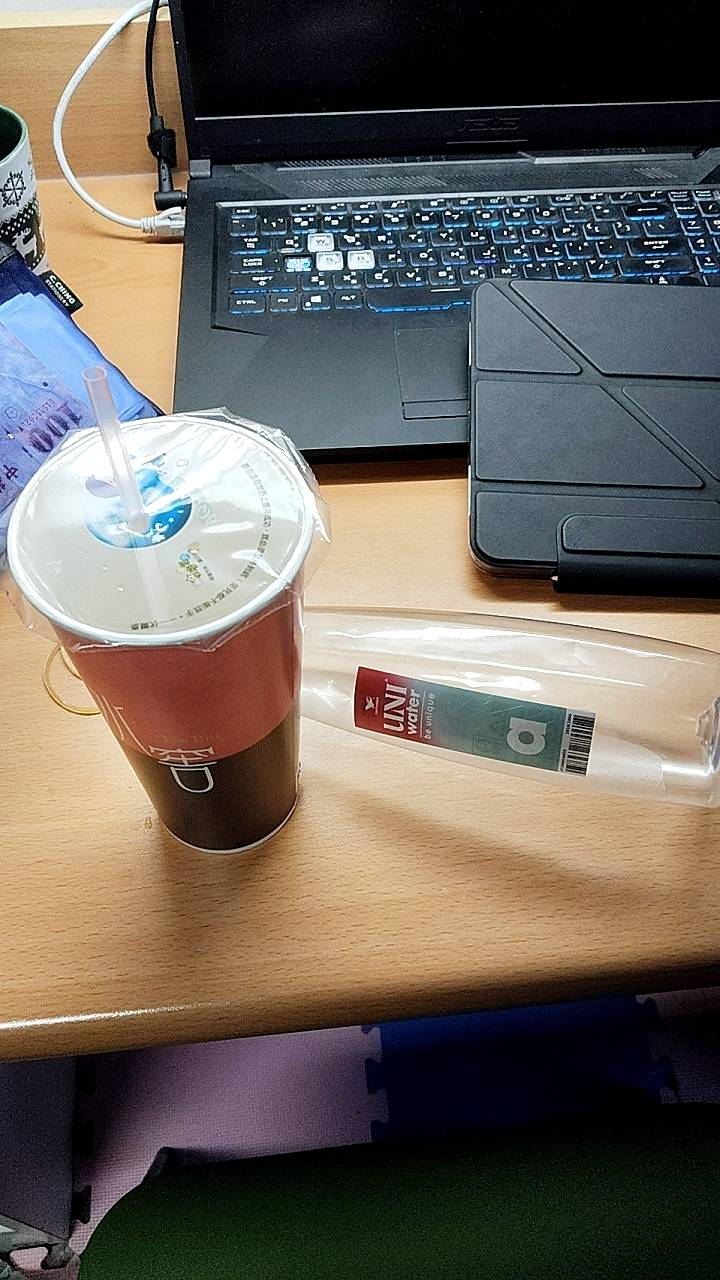paper: (0, 322, 355, 890)
plastic: (183, 525, 720, 825)
